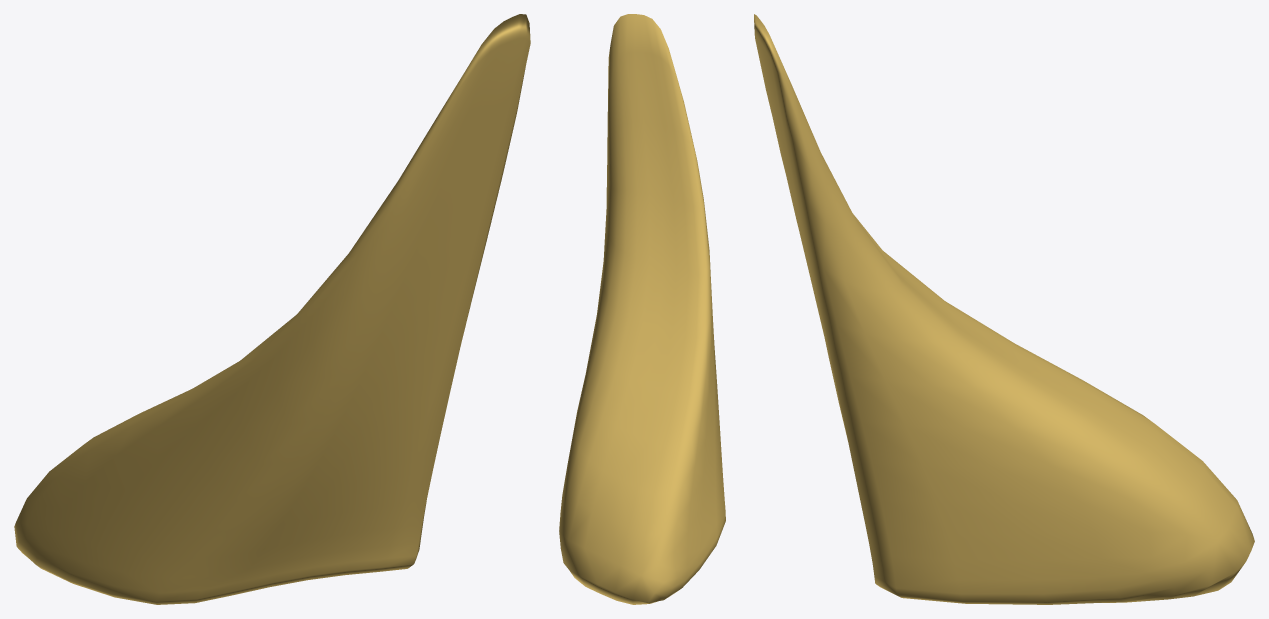
The picture shows the model from 3 angles, left to right: view 1: azimuth 30°, elevation 25°; view 2: azimuth 150°, elevation 25°; view 3: azimuth 270°, elevation 25°; orthographic projection. The views are drawn at different scales.
Parts seen in each view (by area): view 1: 右侧髌下脂肪垫; view 2: 右侧髌下脂肪垫; view 3: 右侧髌下脂肪垫.
Boxes of the visible parts, x1,y1,x2,y2 form: 右侧髌下脂肪垫: (14,14,530,604); 右侧髌下脂肪垫: (559,14,725,604); 右侧髌下脂肪垫: (754,14,1254,604).
Bounding box in the file's own units: 0.0172 × 0.0349 × 0.0245.
